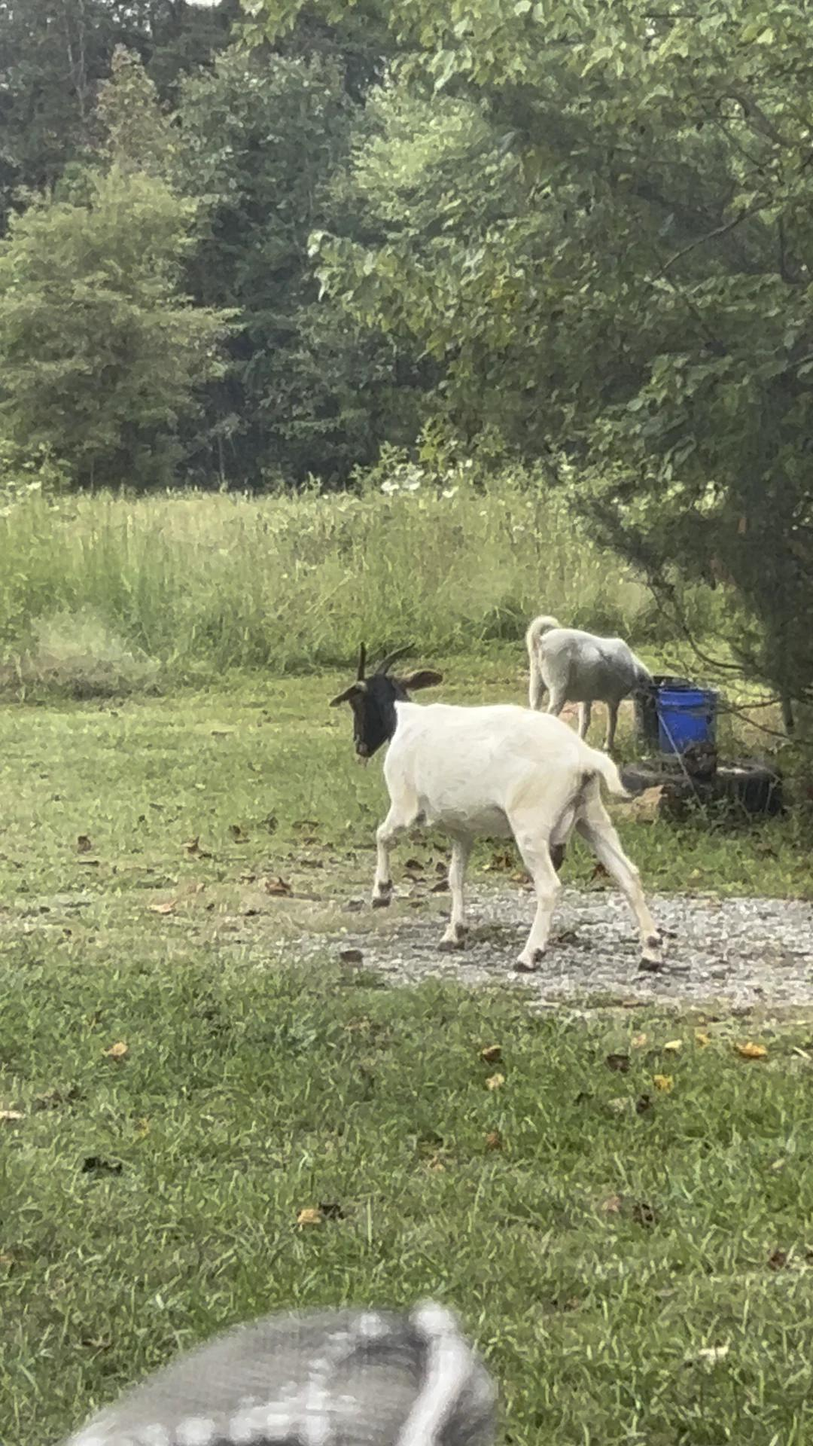fracture: (334, 779, 453, 952)
